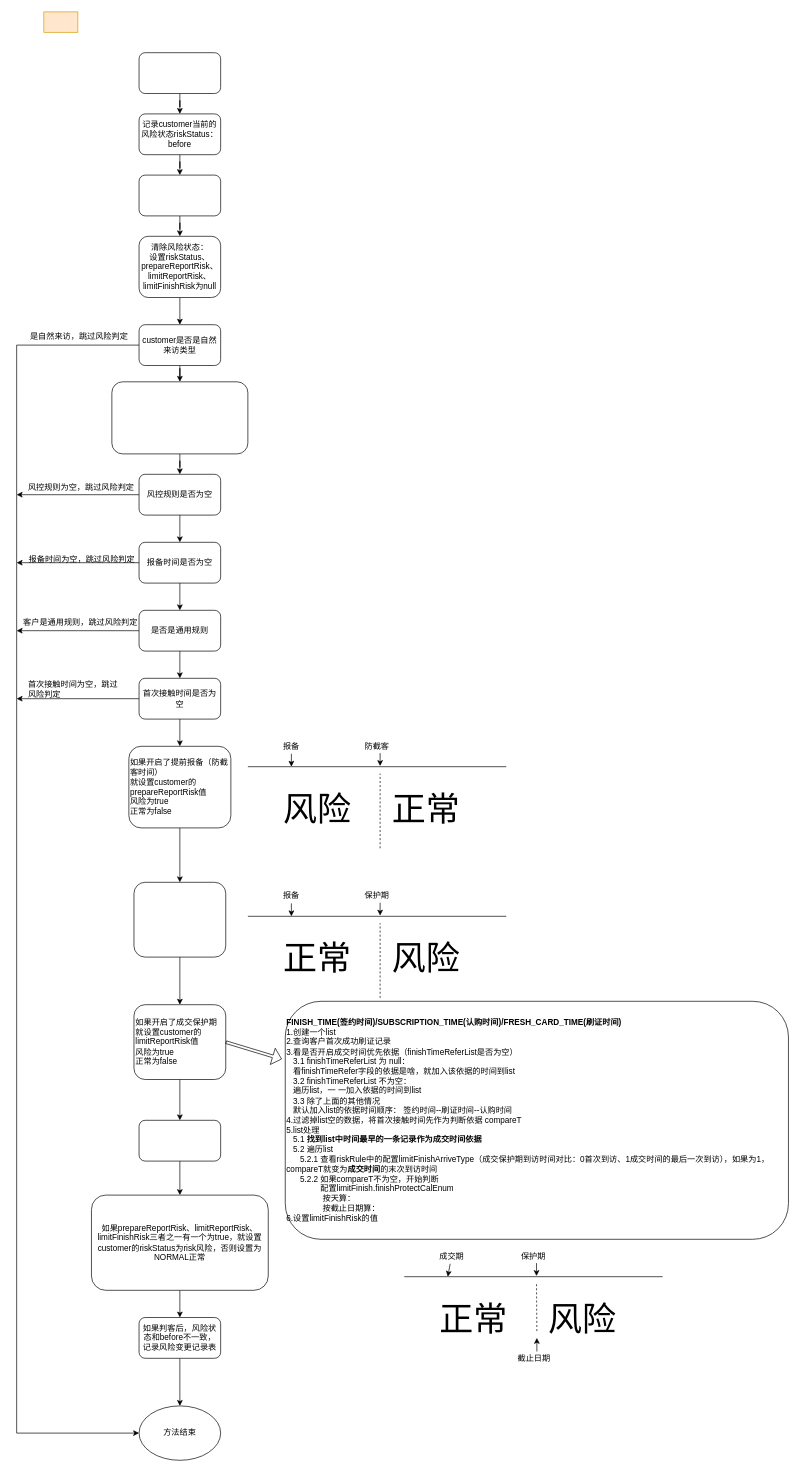
This 800x1472 diagram has some shape labels left out. The box of each missing label's shape, as (x1, y1, x2, y2) in pixels:
判客: (43, 11, 78, 32)
如果riskRule为空，需要查询riskRule 1.渠道为空，设置为null 2.通过riskRuleId查，如果没有查到设置为null: (111, 381, 248, 454)
如果开启了报备保护期 就设置customer的limitReportRisk值 风险为true 正常为false: (133, 882, 226, 957)
当系统判客风险时间从无到有时，记录首次判客时间（以此计算自动复核）: (138, 1120, 221, 1161)
方法： determineRisk（customer，riskRule）: (138, 52, 221, 94)
记录customer当前的风险变更状态:beforeChange: (138, 174, 221, 216)
